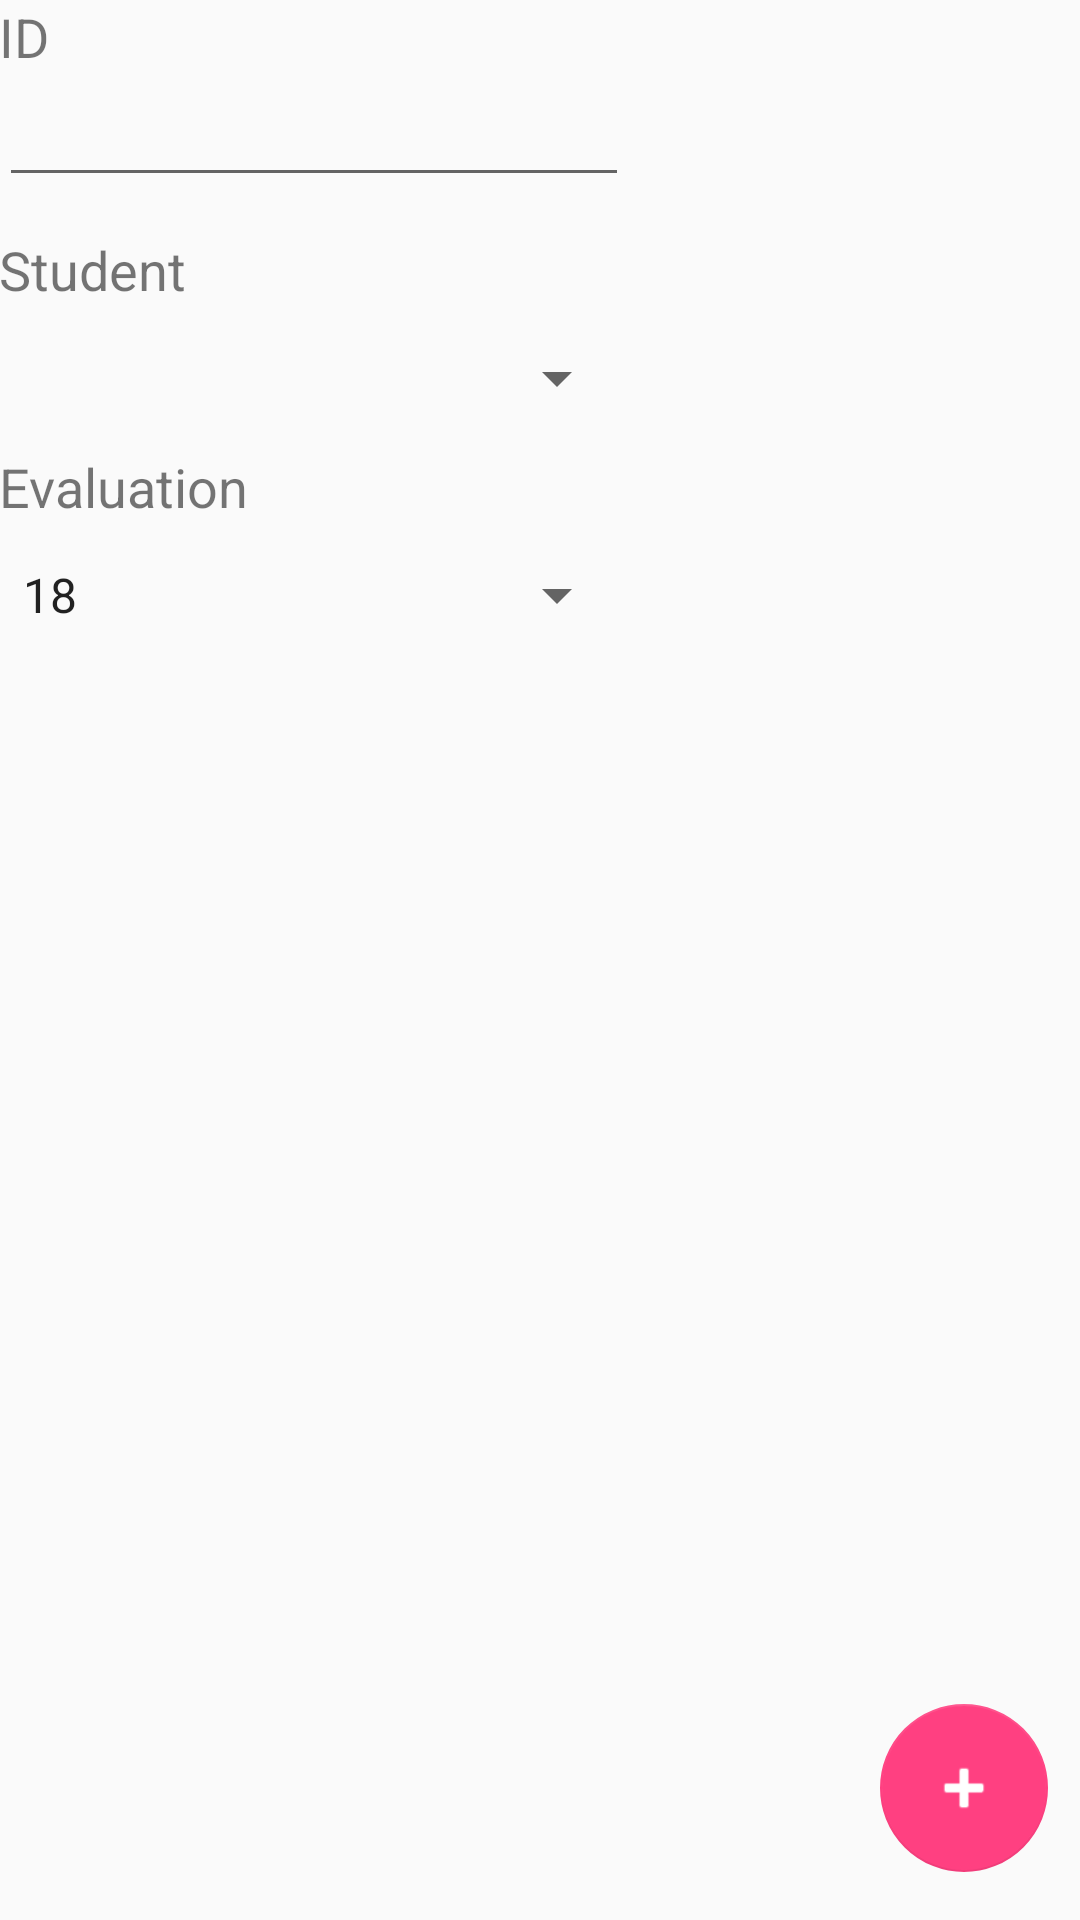

Icon click points for this 1080×1920 phone screenshot, format (x=x, y=y):
add: (x=964, y=1788)
